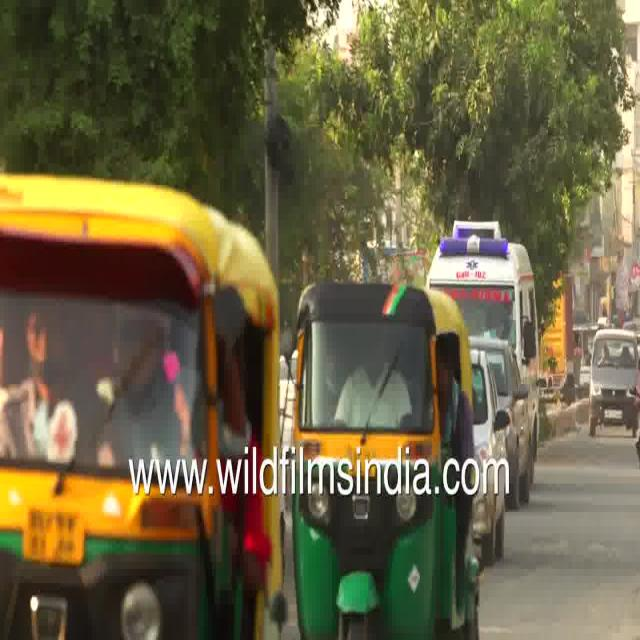ambulance: (422, 222, 536, 303), (458, 308, 539, 403)
